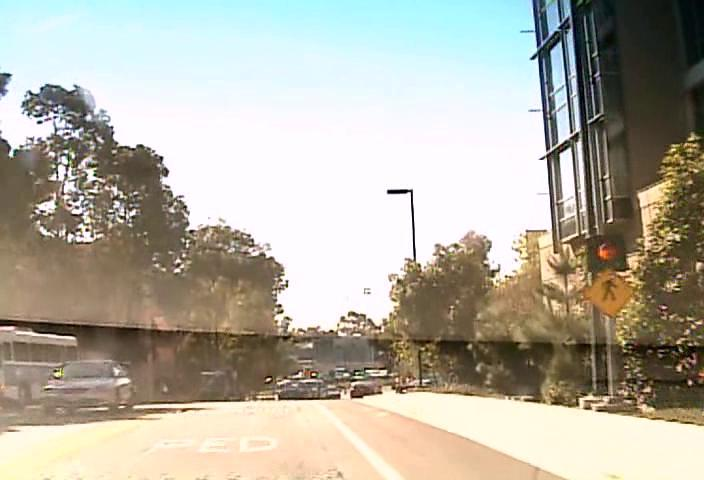pedestrianCrossing: (584, 264, 635, 317)
